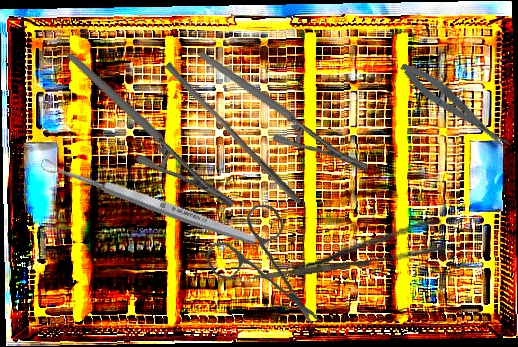Dressing Forceps: (288, 218, 447, 275)
Iris Scissors: (201, 200, 330, 329)
Micro Scissor: (396, 56, 514, 158)
Needle Holder: (66, 16, 239, 244), (198, 11, 370, 210)
Pusher: (159, 61, 308, 206), (247, 257, 370, 285)
Surgical Spoon: (38, 155, 259, 249)
